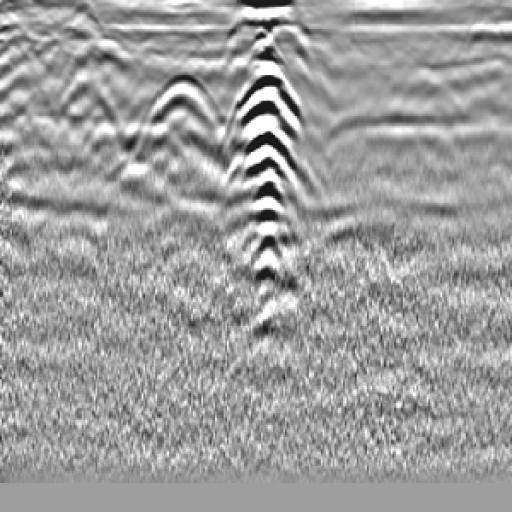metalic: (215, 30, 339, 320)
nonmetalic: (127, 58, 240, 172)
